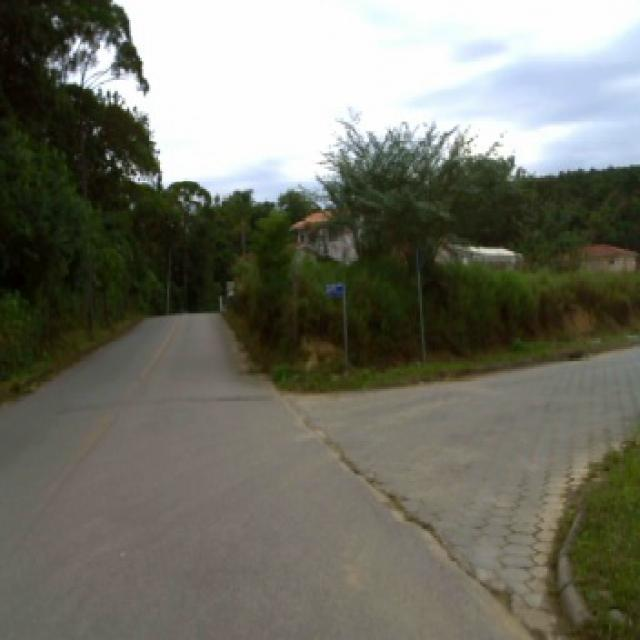Poth-hole: (300, 416, 549, 636), (54, 393, 260, 411), (565, 349, 582, 358)
